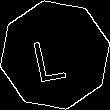L_N: (35, 27, 75, 83)
